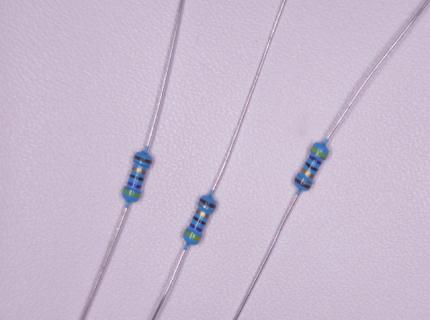Black band: (193, 216, 206, 226), (305, 162, 318, 172), (130, 174, 144, 181)
Brown band: (294, 177, 311, 190), (199, 198, 216, 209), (134, 155, 151, 165)
Gold band: (300, 167, 315, 180), (196, 209, 210, 219), (132, 166, 146, 175)
Violet band: (309, 155, 322, 166), (190, 223, 203, 233), (127, 180, 141, 189)
Yellow band: (184, 229, 201, 242), (310, 146, 327, 159), (123, 189, 140, 199)
